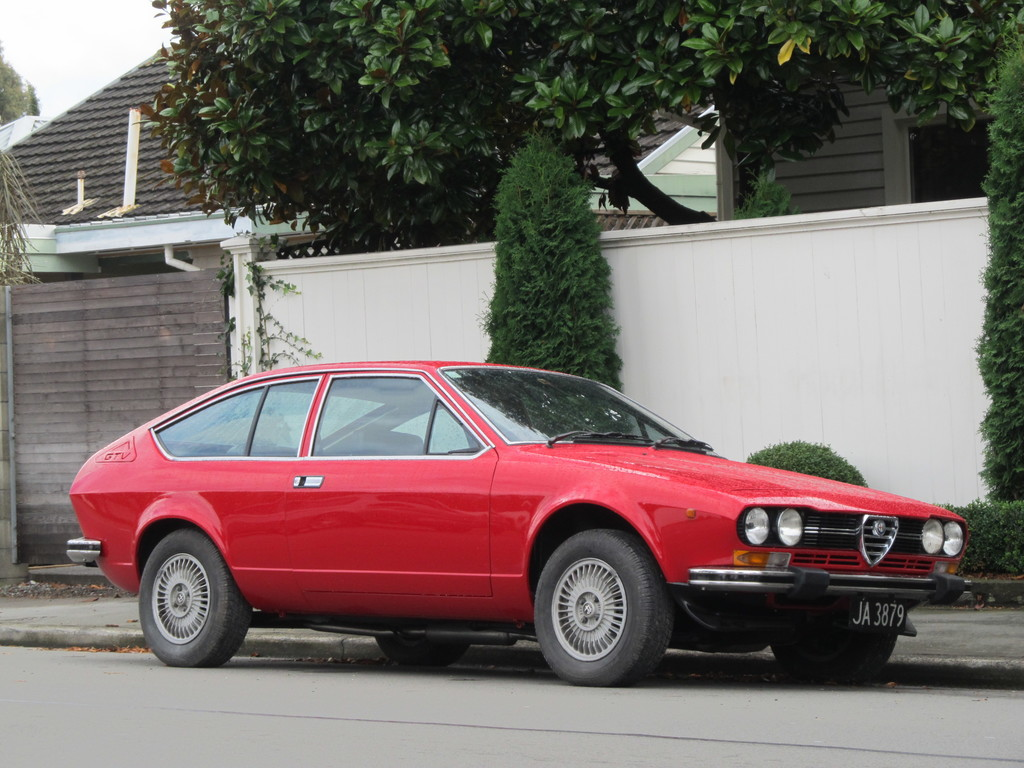Car: (66, 360, 968, 685)
